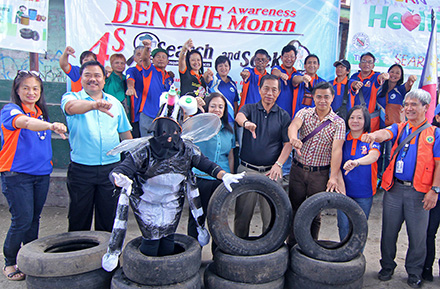tire: (207, 171, 292, 254), (294, 191, 367, 261), (17, 230, 115, 277), (122, 234, 202, 285), (290, 250, 364, 284), (213, 249, 288, 281)
